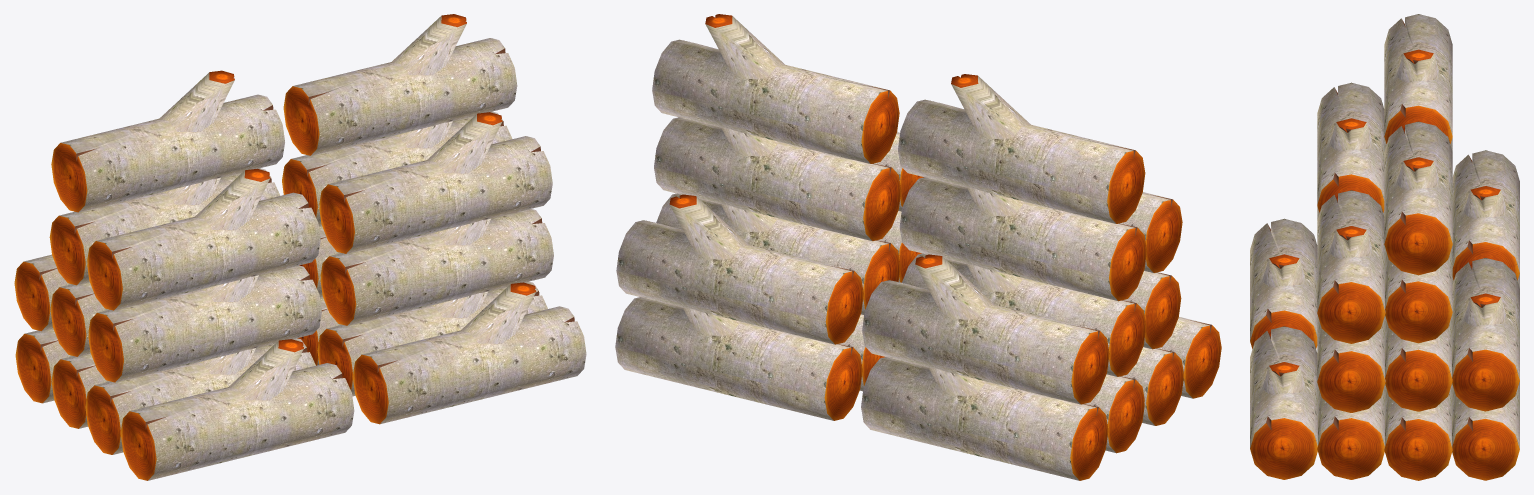
The model's file is SheepFence_INIT.glb.
The picture shows the model from 3 angles, left to right: view 1: azimuth 30°, elevation 25°; view 2: azimuth 150°, elevation 25°; view 3: azimuth 270°, elevation 25°; orthographic projection. The views are drawn at different scales.
Visible parts, largest first — view 1: SheepFence_INIT; view 2: SheepFence_INIT; view 3: SheepFence_INIT.
Part boxes in pixels (x1,y1,x2,y2): SheepFence_INIT: (14, 14, 586, 480); SheepFence_INIT: (615, 14, 1221, 480); SheepFence_INIT: (1250, 14, 1519, 480).
Size of the model in its own units: 2.07 by 1.43 by 1.18.
Materials: 4 (4 with a texture image).
